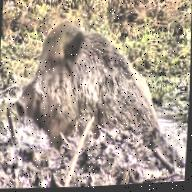boar: (4, 7, 173, 175)
